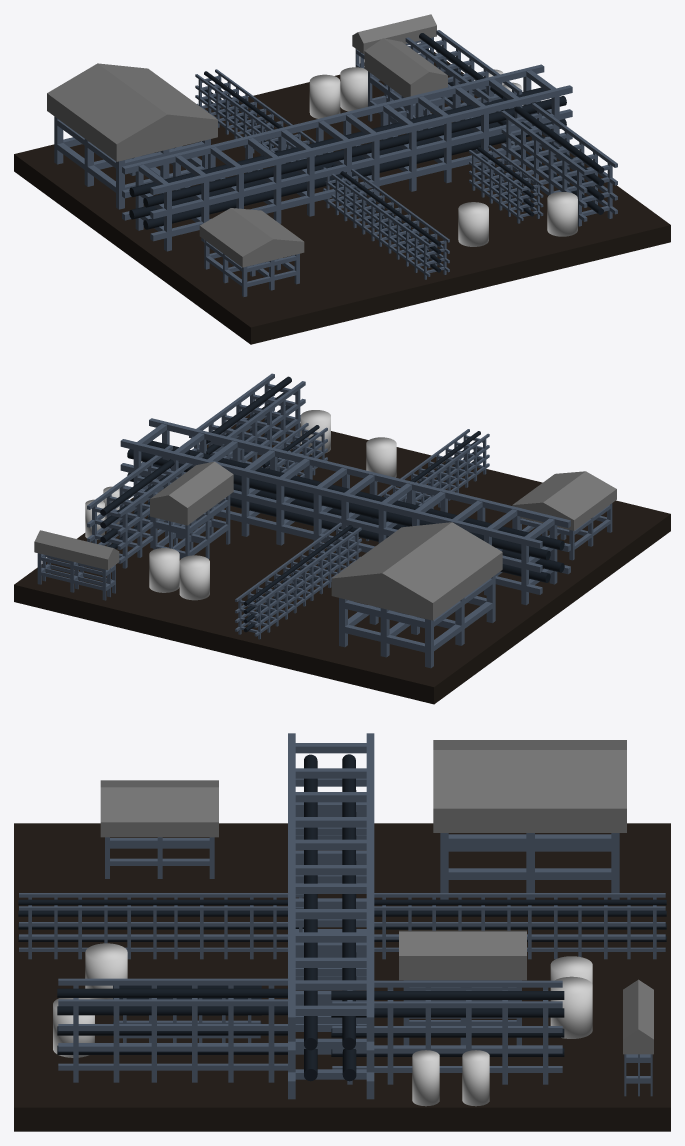
File: LNG Train 1_short.fbx
The picture shows the model from 3 angles, top to bottom: view 1: azimuth 30°, elevation 25°; view 2: azimuth 150°, elevation 25°; view 3: azimuth 270°, elevation 25°; orthographic projection. The views are drawn at different scales.
Parts seen in each view (by area): view 1: LNGTrain_s; view 2: LNGTrain_s; view 3: LNGTrain_s.
Boxes of the visible parts, x1,y1,x2,y2 form: LNGTrain_s: [14, 14, 670, 344]; LNGTrain_s: [14, 373, 670, 704]; LNGTrain_s: [14, 733, 670, 1131].
Bounding box in the file's own units: 99.02 × 23.2 × 96.58.
